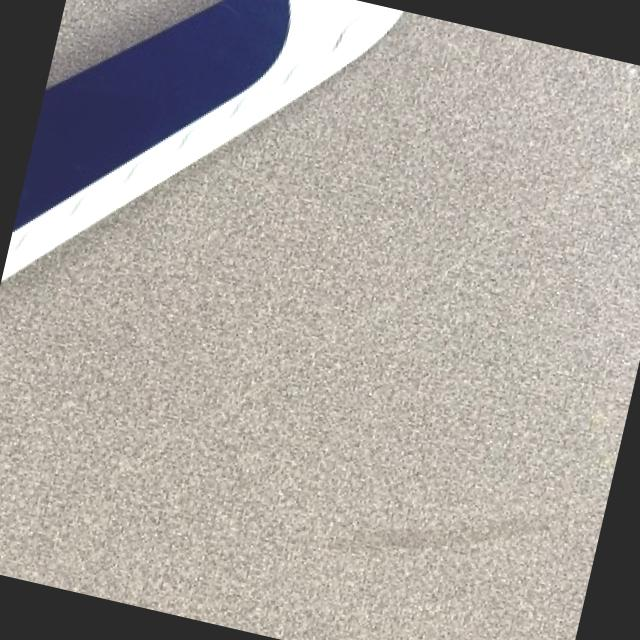healthy: (0, 11, 640, 640), (47, 0, 205, 80)
